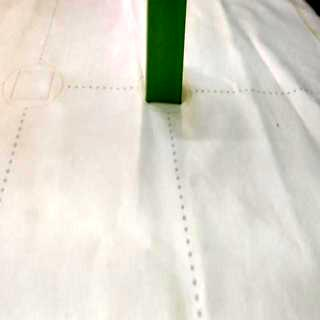greenbox: (146, 0, 188, 107)
